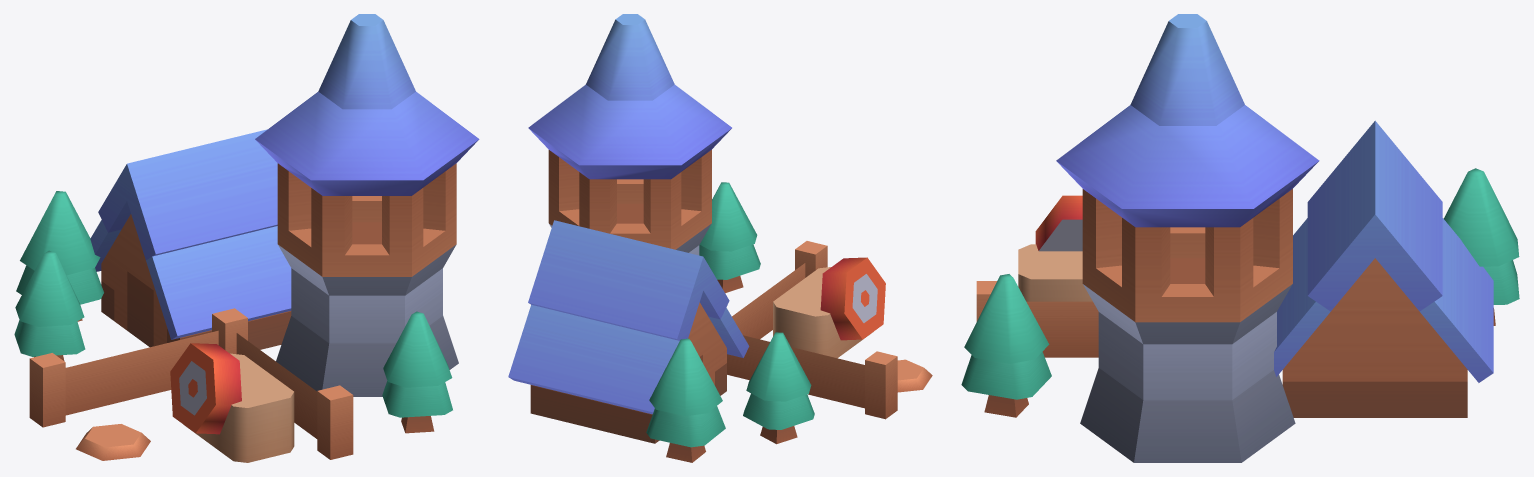
The model's file is archery.fbx.
3 renders of one model, left to right at view 1: azimuth 30°, elevation 25°; view 2: azimuth 150°, elevation 25°; view 3: azimuth 270°, elevation 25°, orthographic. The views are drawn at different scales.
Parts seen in each view (by area): view 1: building_archery; view 2: building_archery; view 3: building_archery.
Boxes of the visible parts, <box> form: building_archery: <box>14,14,479,462</box>; building_archery: <box>508,14,932,462</box>; building_archery: <box>961,14,1519,462</box>.
Size of the model in its own units: 86.32 by 72 by 90.48.
